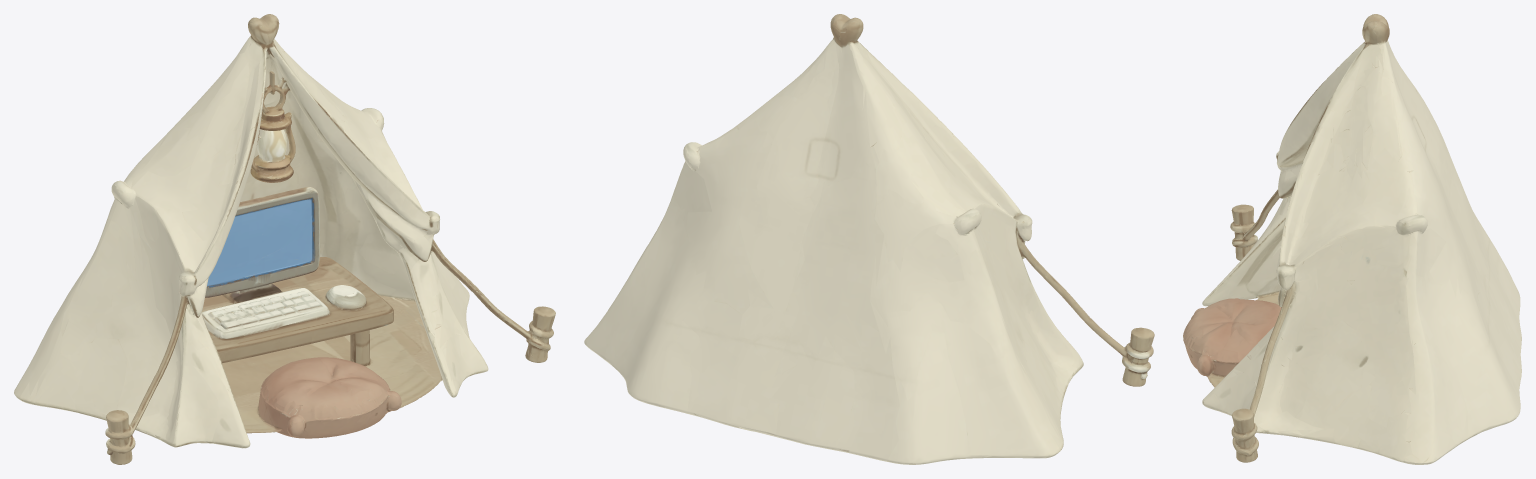
Rendered from tent-workstation-smooth-cartoon-v1.glb.
3 renders of one model, left to right at view 1: azimuth 30°, elevation 25°; view 2: azimuth 150°, elevation 25°; view 3: azimuth 270°, elevation 25°, orthographic. The views are drawn at different scales.
Parts seen in each view (by area): view 1: tent-workstation-flat-source-v4; view 2: tent-workstation-flat-source-v4; view 3: tent-workstation-flat-source-v4.
Boxes of the visible parts, x1,y1,x2,y2 form: tent-workstation-flat-source-v4: [14, 14, 555, 464]; tent-workstation-flat-source-v4: [584, 14, 1154, 464]; tent-workstation-flat-source-v4: [1183, 14, 1521, 464].
Bounding box in the file's own units: 1.9 × 1.41 × 1.26.
Materials: 1 (1 with a texture image).
